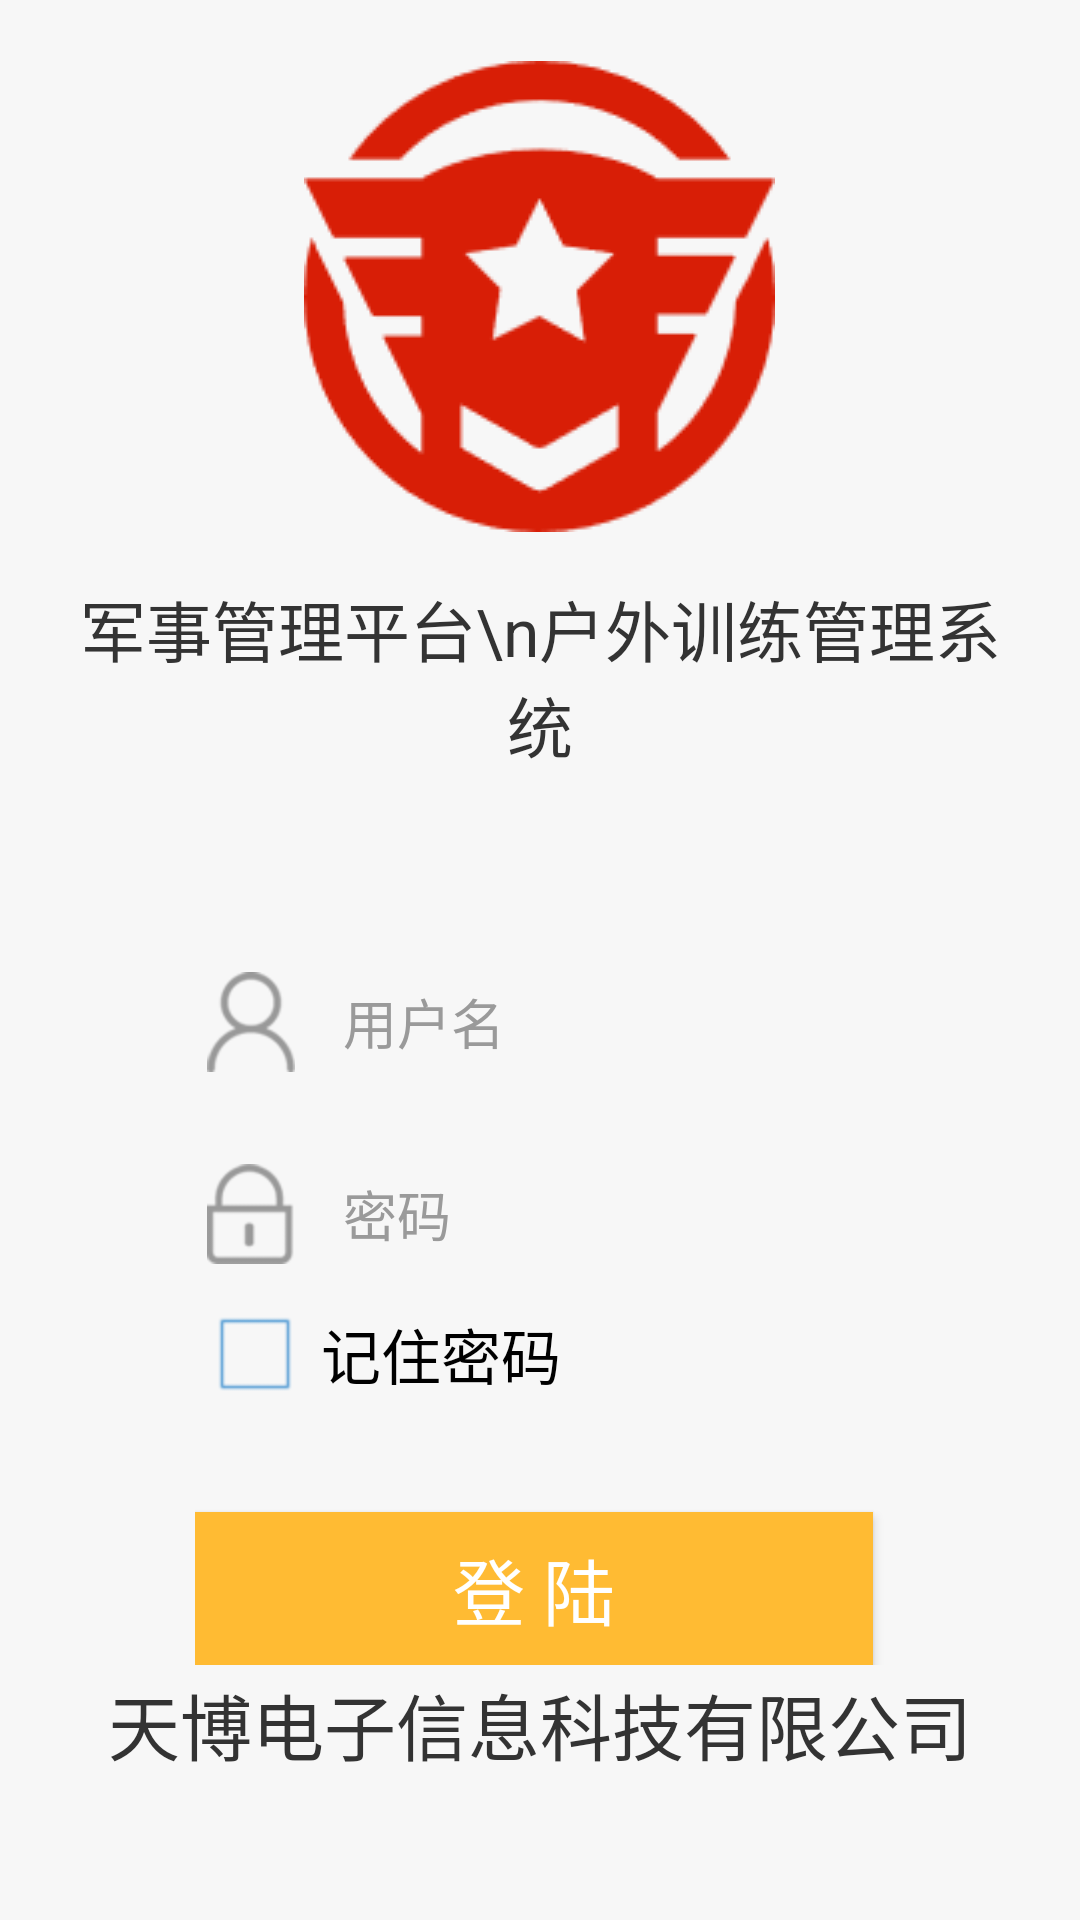

Icon bounding boxes for this 1080x1920 phone screenshot, format (x1, y1, x2, y2):
login pwd: (207, 1164, 293, 1264)
login user: (207, 972, 295, 1072)
